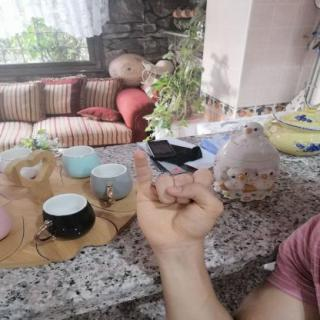MEEM: (119, 145, 236, 255)
